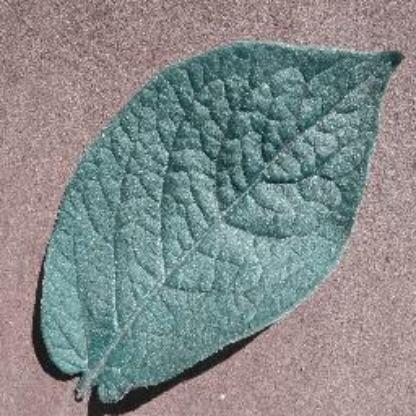Healthy-plant: (22, 31, 405, 409)
